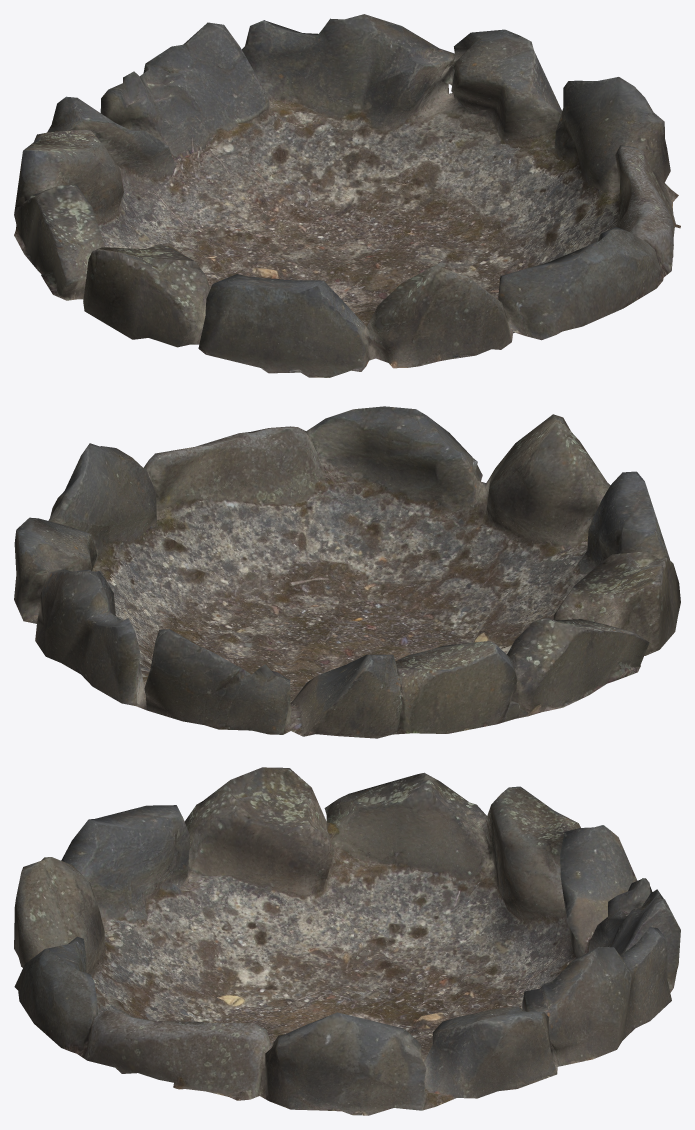
File: stone_fire_pit.glb
3 views of the same model, one above another, from view 1: azimuth 30°, elevation 25°; view 2: azimuth 150°, elevation 25°; view 3: azimuth 270°, elevation 25° (orthographic).
Visible parts, largest first — view 1: stone_fire_pit; view 2: stone_fire_pit; view 3: stone_fire_pit.
Part boxes in pixels (left/top/right/bottom): stone_fire_pit: left=14, top=14, right=680, bottom=377; stone_fire_pit: left=14, top=406, right=680, bottom=738; stone_fire_pit: left=14, top=767, right=680, bottom=1115.
Bounding box in the file's own units: 1.45 × 0.3883 × 1.43.
1 material, 1 textured.
